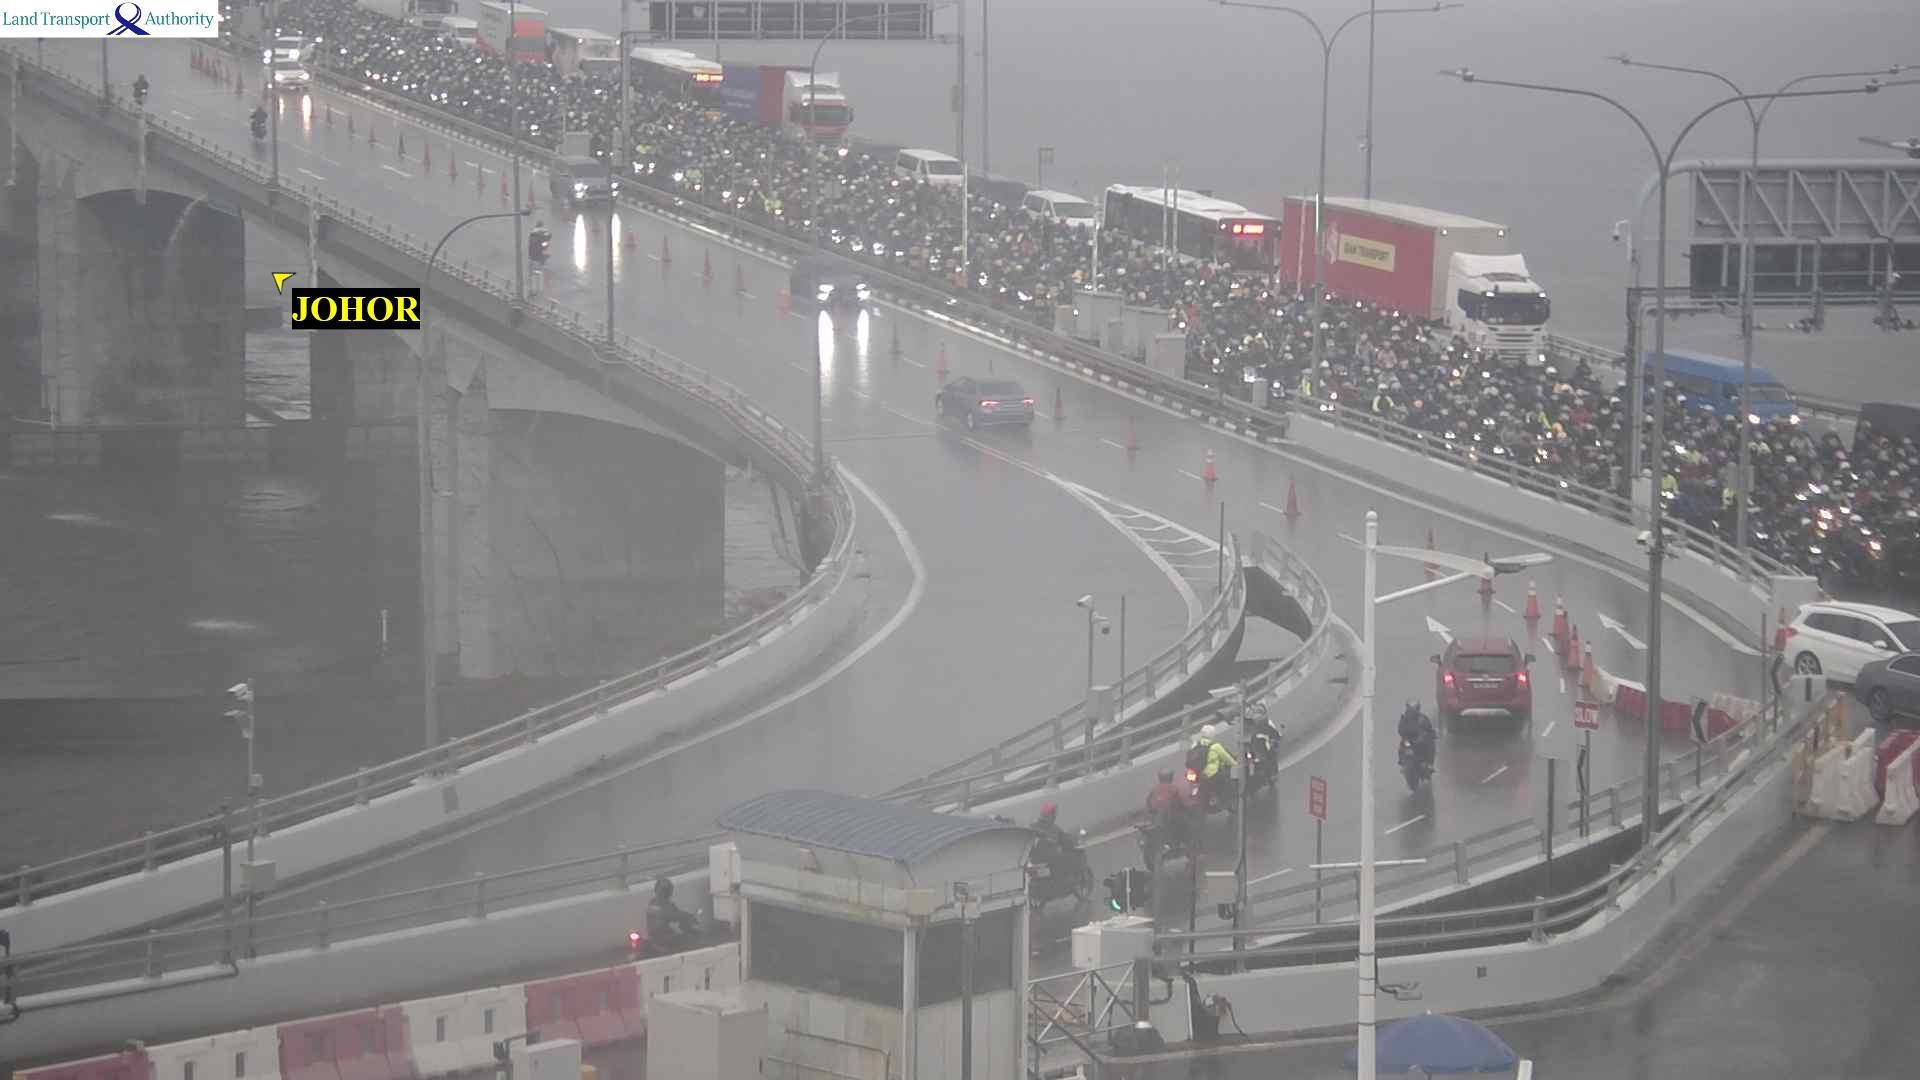vehicle-secondlink-johor: (1436, 634, 1532, 723), (1019, 791, 1093, 906), (626, 878, 699, 957), (1145, 765, 1201, 857), (942, 381, 1040, 430), (1189, 719, 1238, 810), (1247, 703, 1280, 787), (1399, 700, 1433, 781), (525, 220, 550, 261), (132, 73, 152, 102), (253, 104, 266, 140)
vehicle-secondlink-singapore: (1316, 195, 1557, 330), (633, 53, 858, 137), (1660, 348, 1813, 430), (1122, 187, 1279, 260), (1784, 599, 1920, 671), (787, 257, 869, 309), (546, 154, 618, 210), (549, 26, 618, 82), (477, 3, 542, 58), (1861, 651, 1920, 709), (1023, 187, 1097, 231), (899, 146, 963, 191), (361, 0, 456, 28), (258, 55, 309, 91), (440, 16, 479, 41)
